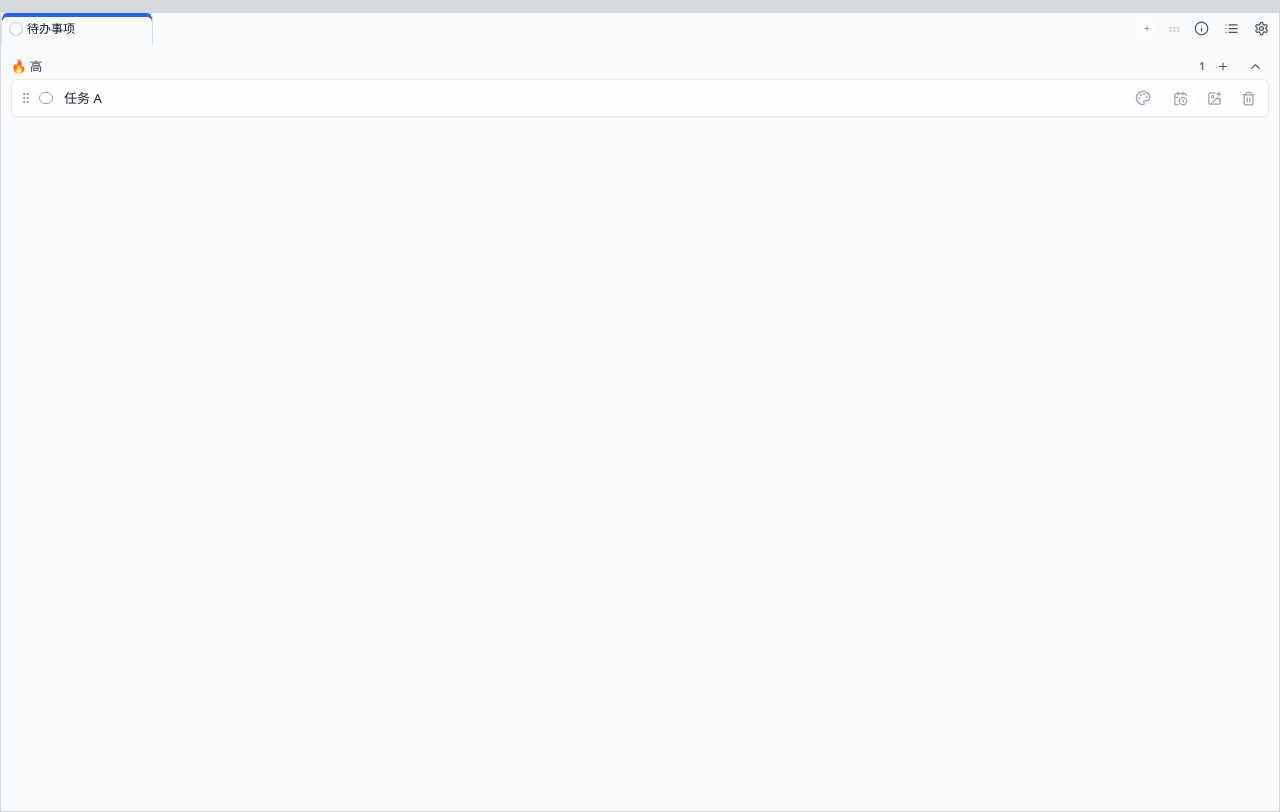
Test: F2 — Group Collapse/Expand › collapses group items when collapse button is clicked
Expected: the text "任务 A" is shown, 64,89 -> 102,107
Click the button titled "折叠分组": click(1255, 66) 1241,52 -> 1269,80
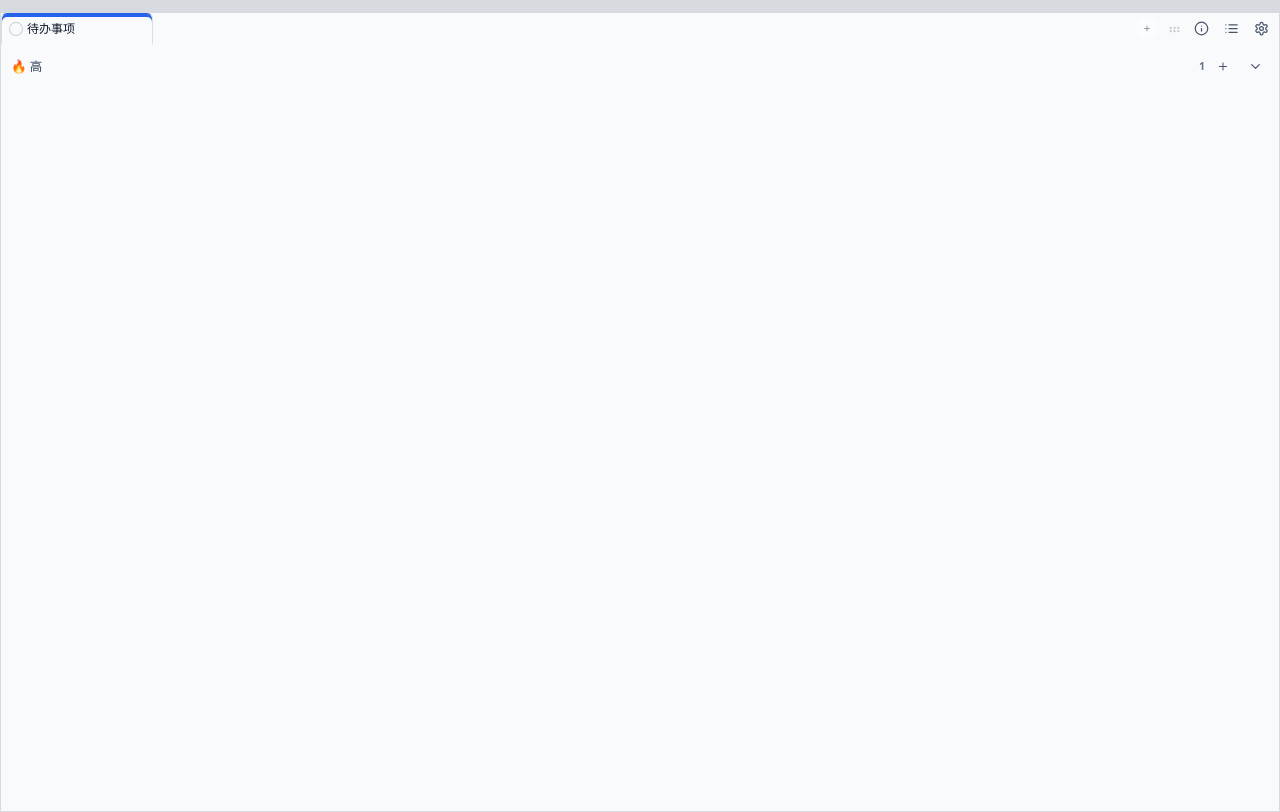
Result: the text "任务 A" is gone
